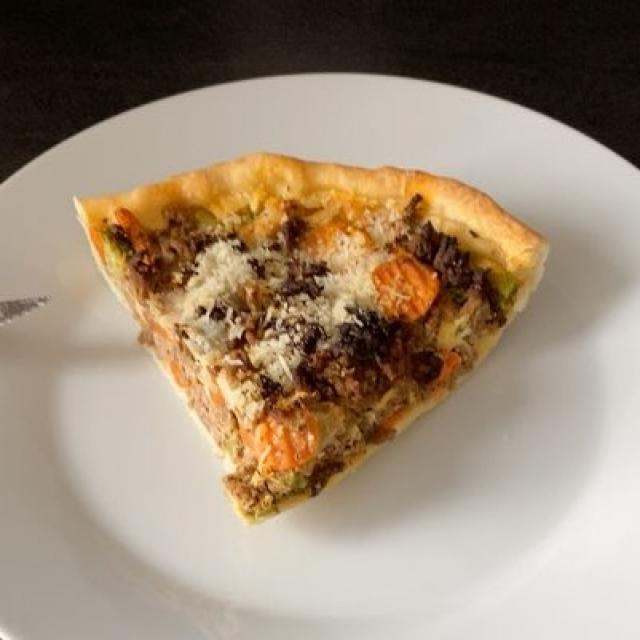mixed-vegetables: (124, 214, 470, 458)
